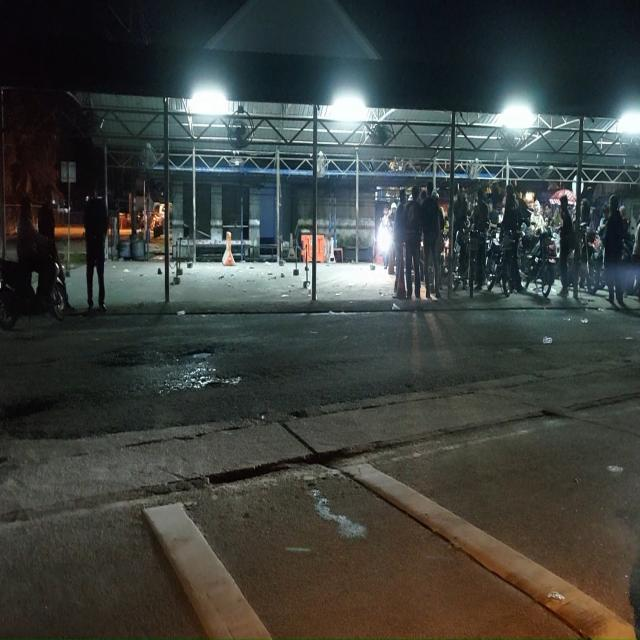Golongan II: (0, 260, 66, 330), (586, 234, 636, 294), (521, 230, 556, 297), (487, 228, 511, 297), (468, 228, 484, 298), (452, 229, 469, 290)
